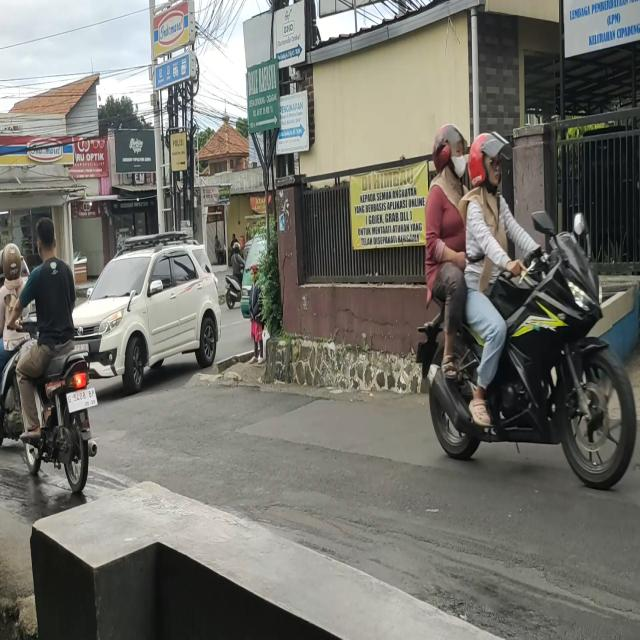helmet: (470, 133, 506, 193), (438, 128, 468, 183), (1, 245, 20, 284)
no-helmet: (35, 219, 55, 261)
